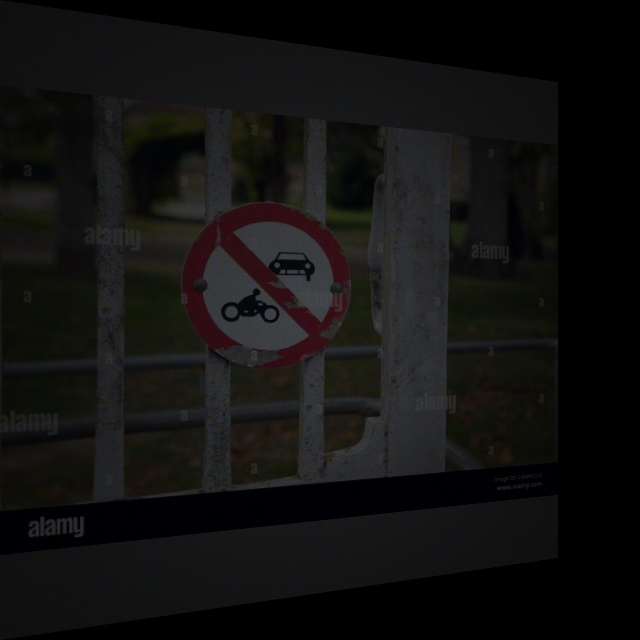All_Motor_Vehicles_Prohibited: (179, 199, 347, 373)
